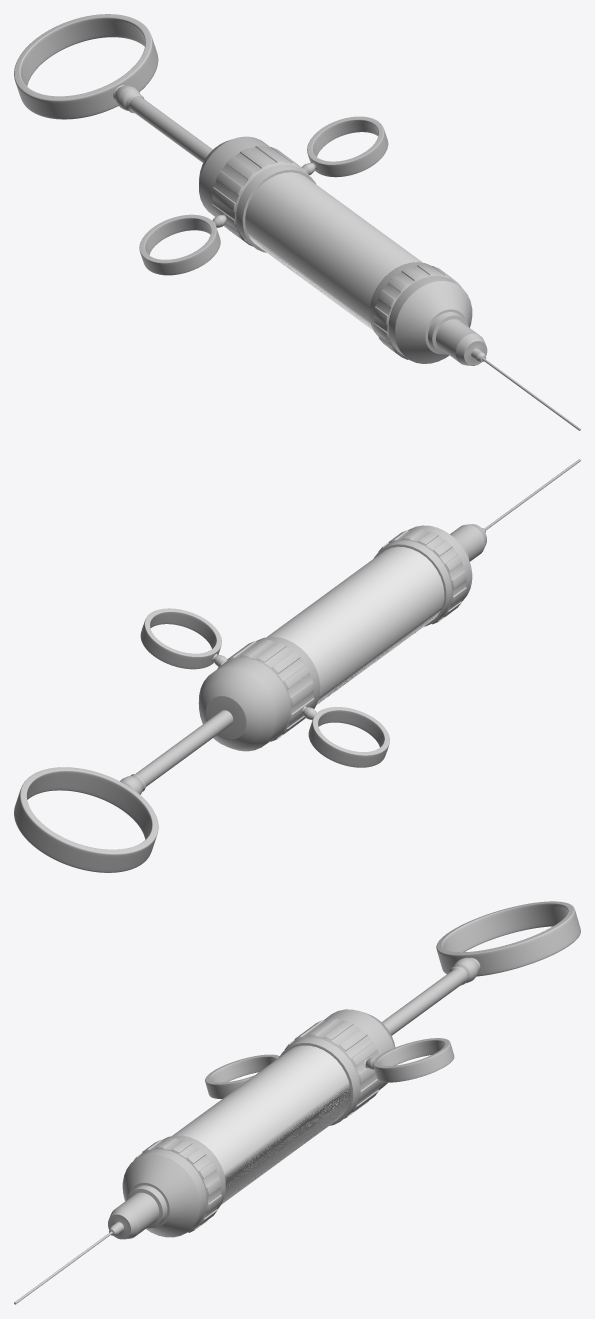
File: syringe.fbx
3 renders of one model, top to bottom at view 1: azimuth 30°, elevation 25°; view 2: azimuth 150°, elevation 25°; view 3: azimuth 330°, elevation 25°, orthographic.
Parts seen in each view (by area): view 1: Glass, Hand, Ending, Piston Circle; view 2: Hand, Glass, Piston Circle, Ending; view 3: Glass, Ending, Hand, Piston Circle.
Boxes of the visible parts, box(x1,y1,x2,y2) form: Glass: box(245, 172, 422, 330); Hand: box(139, 116, 388, 275); Ending: box(369, 262, 580, 430); Piston Circle: box(14, 14, 212, 162); Hand: box(140, 608, 389, 767); Glass: box(267, 546, 444, 704); Piston Circle: box(14, 710, 233, 872); Ending: box(373, 459, 580, 626); Glass: box(172, 1045, 350, 1204); Ending: box(14, 1135, 225, 1304); Hand: box(205, 1009, 454, 1125); Piston Circle: box(381, 901, 580, 1035).
Size of the model in its own units: 18.97 by 7.12 by 73.18.
